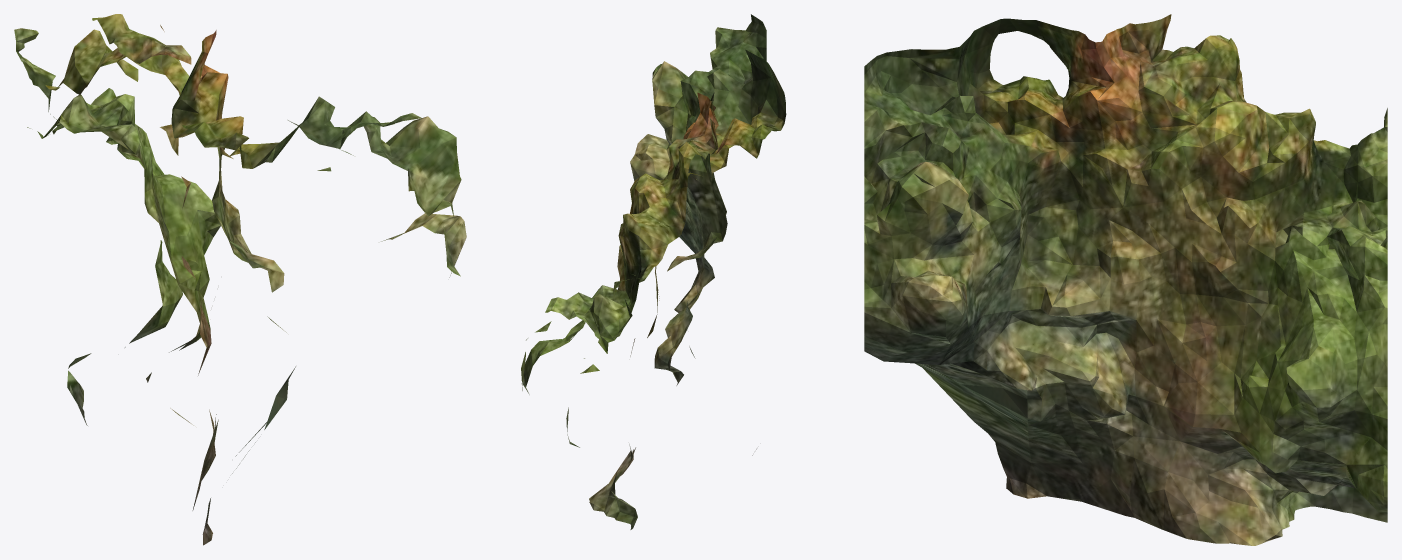
3 views of the same model, side by side, from view 1: azimuth 30°, elevation 25°; view 2: azimuth 150°, elevation 25°; view 3: azimuth 270°, elevation 25° (orthographic). The views are drawn at different scales.
Size of the model in its own units: 2.85 by 5.9 by 5.9.
Materials: 3 (3 with a texture image).
